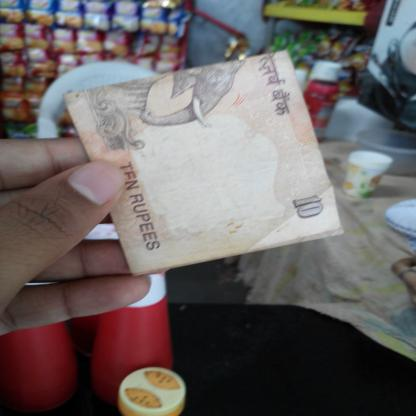Old10Back: (62, 48, 346, 278)
